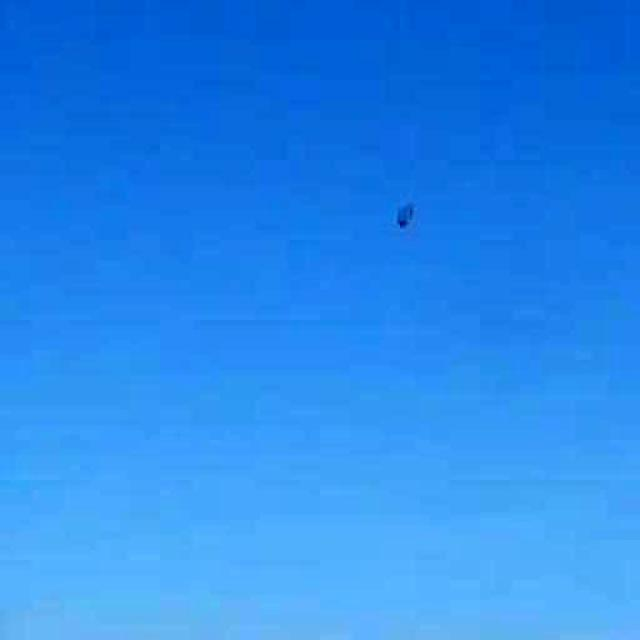drone: (370, 180, 426, 248)
